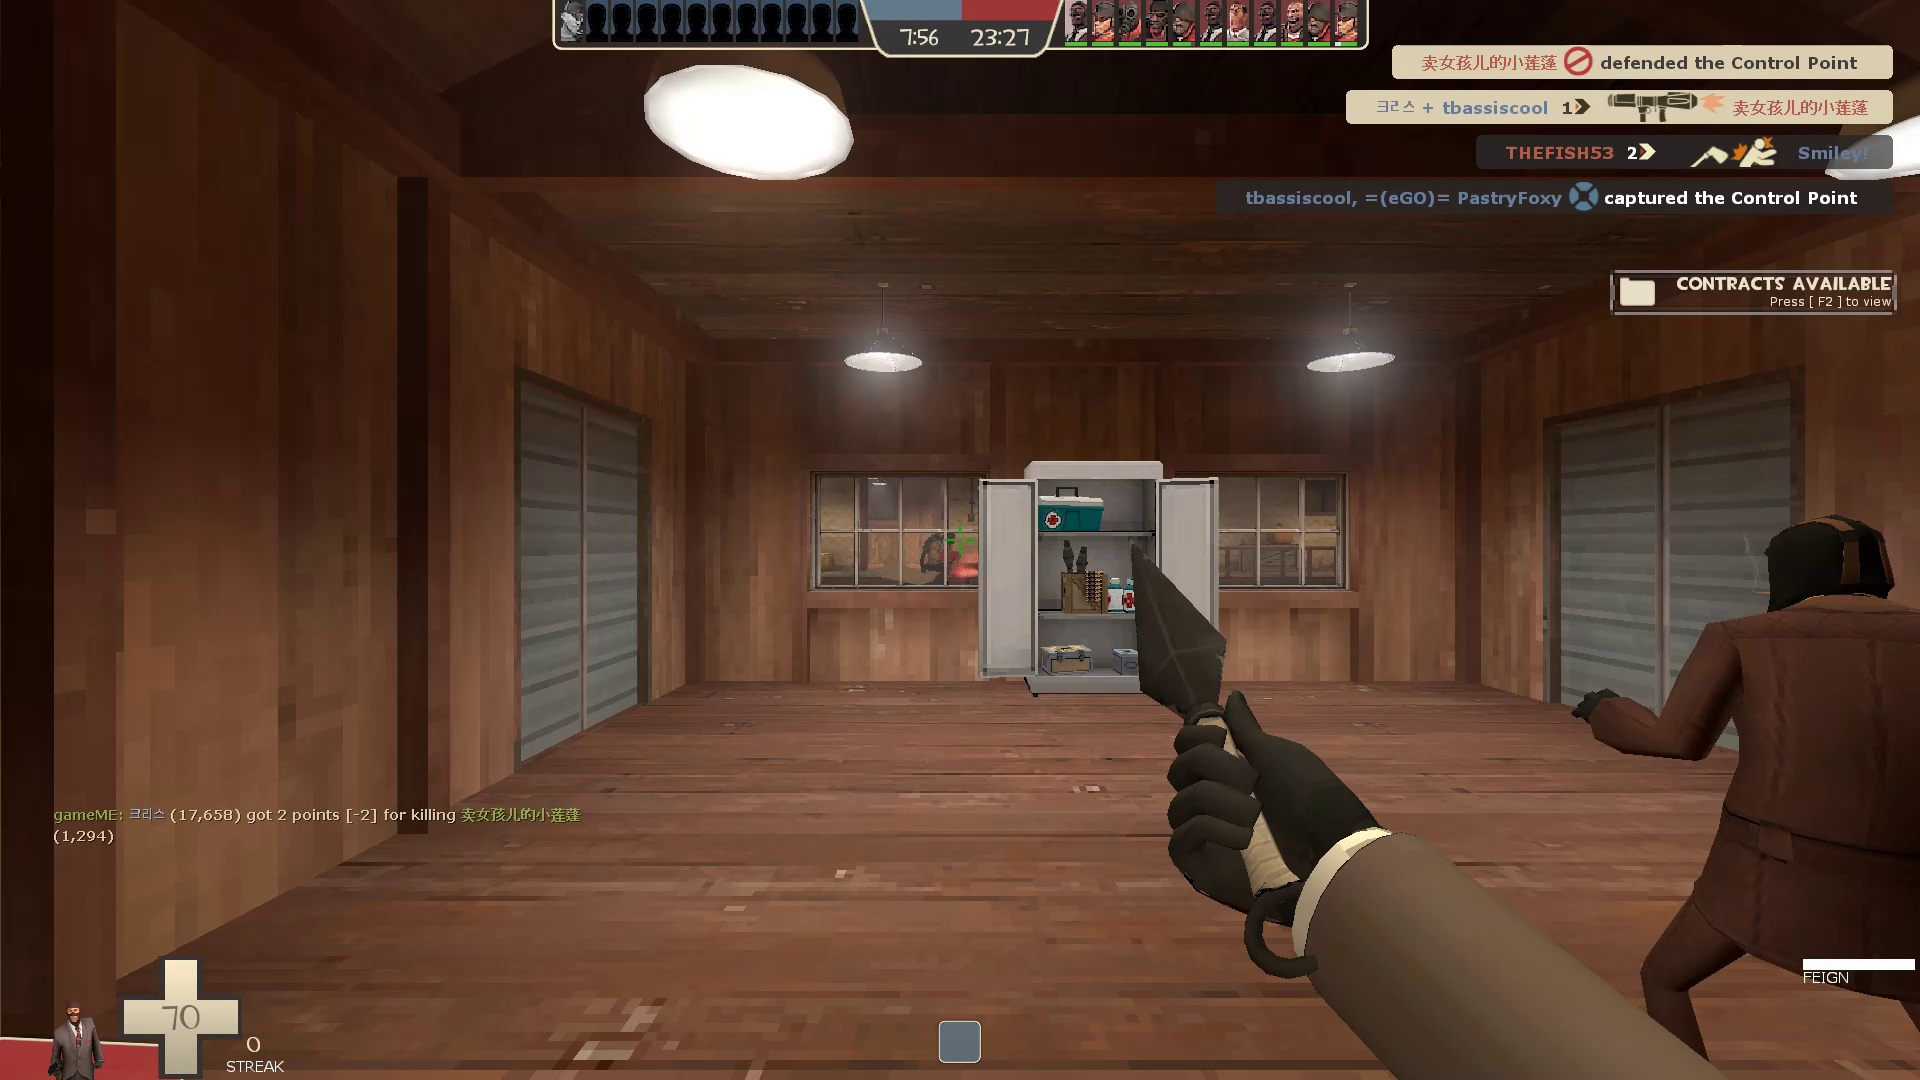red_medic: (880, 524, 1000, 600)
red_spy: (1556, 510, 1920, 1077)
